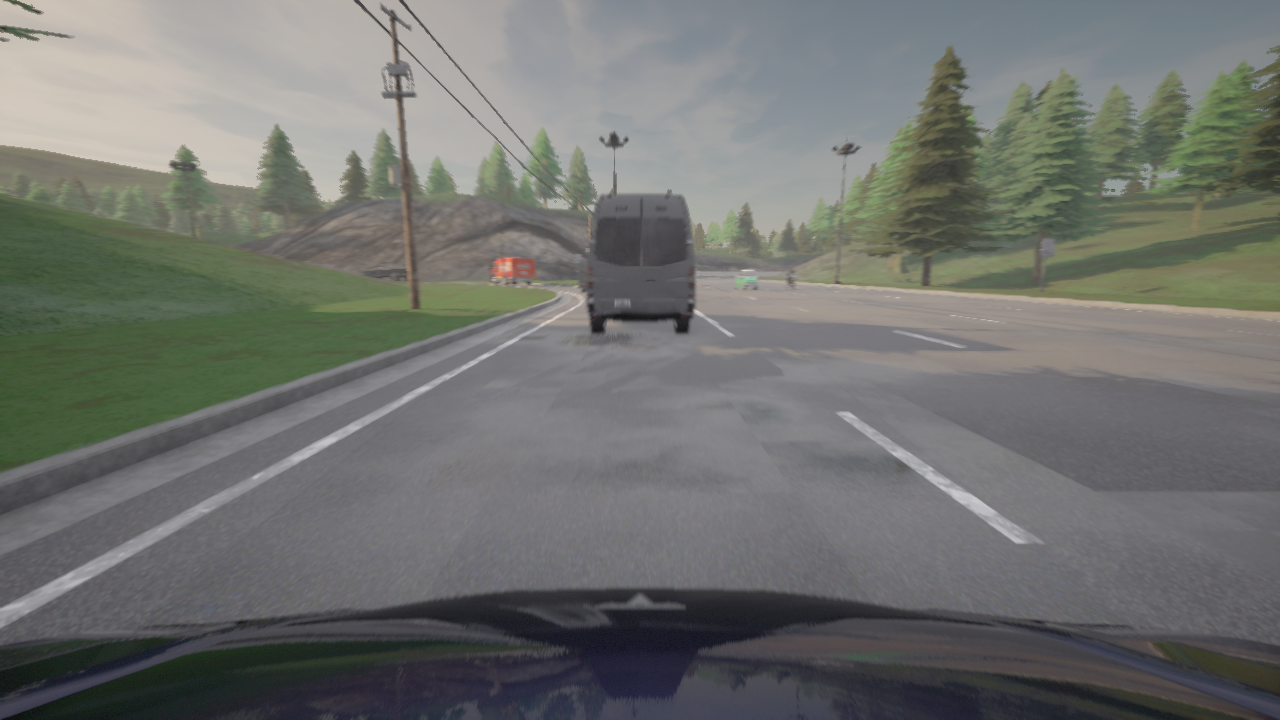cyclist: (0, 588, 1279, 719), (587, 194, 694, 332), (488, 258, 536, 285), (359, 264, 408, 282), (734, 270, 758, 290), (785, 273, 796, 289), (579, 274, 587, 291)
